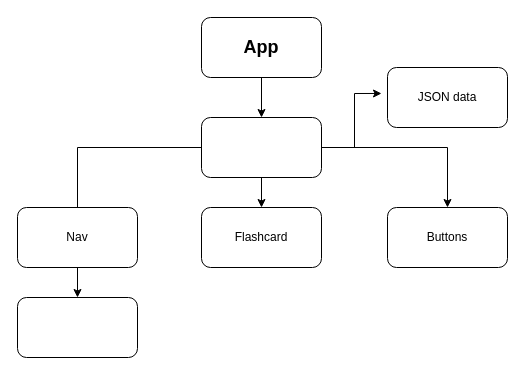
This 525x375 diagram has some shape labels left out. The box of each missing label's shape, as (x1, y1, x2, y2) in pixels:
Dropdown: (16, 296, 138, 358)
FlashcardDisplay: (200, 116, 322, 178)
